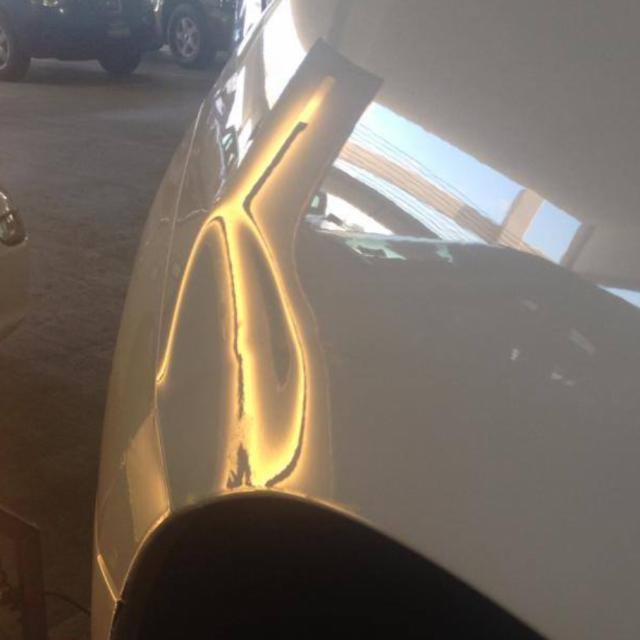dents: (144, 209, 376, 523)
